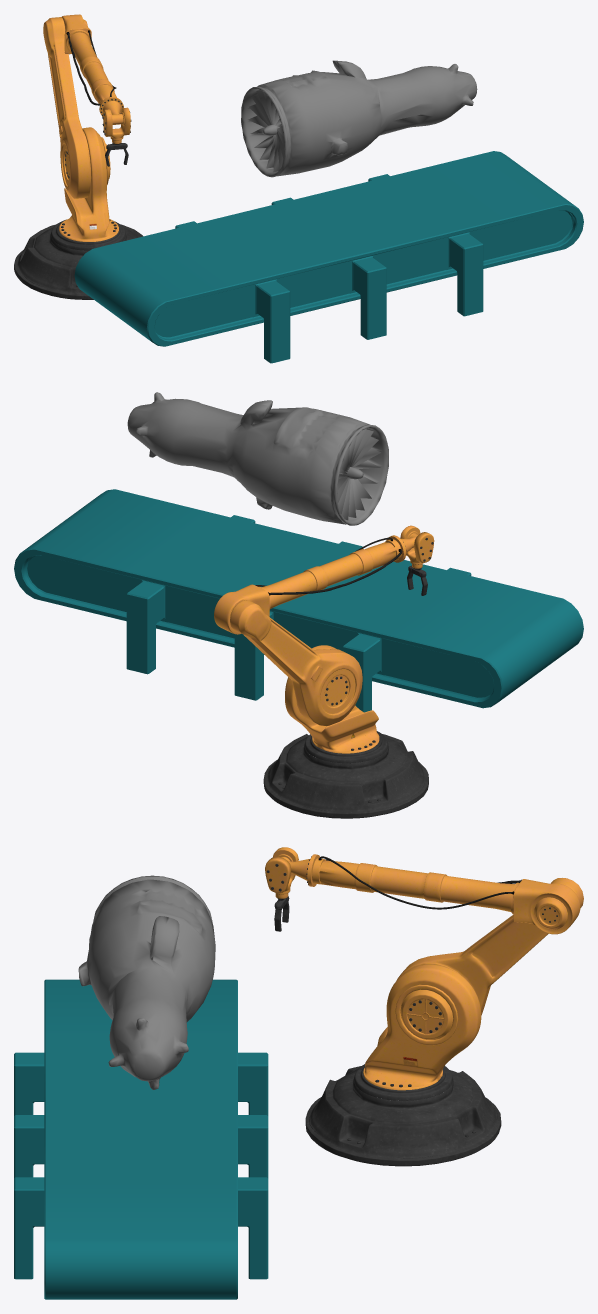
The model's file is usineobject.fbx.
3 renders of one model, top to bottom at view 1: azimuth 30°, elevation 25°; view 2: azimuth 150°, elevation 25°; view 3: azimuth 270°, elevation 25°, orthographic. The views are drawn at different scales.
Visible parts, largest first — view 1: Cylinder011, moteur, robot arm large, robot arm, robot arm base, Robot arm 2, robot arm end; view 2: Cylinder011, moteur, robot arm base, robot arm large, Robot arm 2, robot arm, robot arm end; view 3: Cylinder011, moteur, robot arm base, robot arm, robot arm large, Robot arm 2, robot arm end.
Boxes of the visible parts, bbox=[...] form: Cylinder011: bbox=[74, 151, 583, 363]; moteur: bbox=[241, 60, 477, 177]; robot arm large: bbox=[43, 17, 110, 198]; robot arm: bbox=[51, 127, 125, 250]; robot arm base: bbox=[14, 224, 143, 299]; Robot arm 2: bbox=[61, 14, 123, 116]; robot arm end: bbox=[102, 107, 131, 143]; Cylinder011: bbox=[14, 489, 583, 712]; moteur: bbox=[127, 392, 388, 525]; robot arm base: bbox=[263, 734, 428, 818]; robot arm large: bbox=[230, 600, 362, 726]; Robot arm 2: bbox=[214, 535, 415, 634]; robot arm: bbox=[285, 645, 388, 763]; robot arm end: bbox=[400, 525, 434, 568]; Cylinder011: bbox=[14, 979, 268, 1299]; moteur: bbox=[78, 875, 215, 1089]; robot arm base: bbox=[305, 1066, 501, 1166]; robot arm: bbox=[354, 964, 481, 1100]; robot arm large: bbox=[395, 878, 583, 1045]; Robot arm 2: bbox=[288, 854, 580, 934]; robot arm end: bbox=[265, 847, 298, 898].
Bounding box in the file's own units: 6.17 × 5.27 × 3.18.
